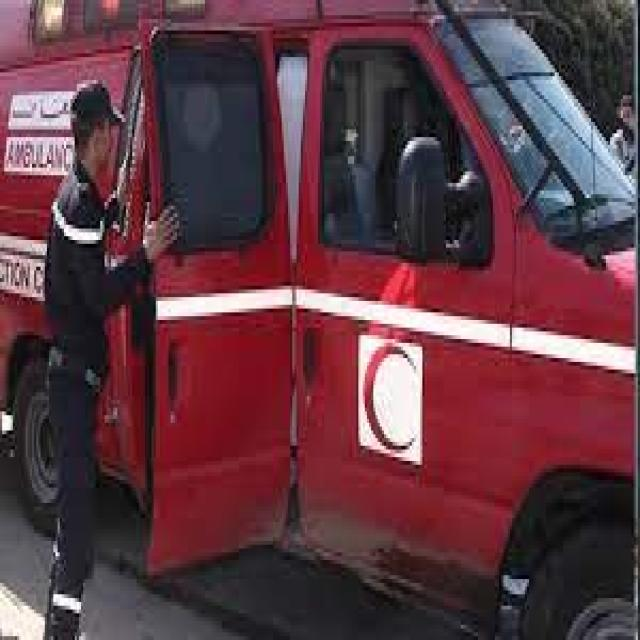ambulance: (7, 2, 630, 620)
